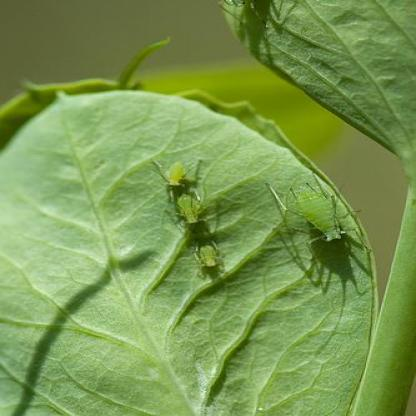aphid: (274, 176, 363, 249), (162, 191, 220, 228), (150, 153, 209, 189), (183, 238, 228, 273)
